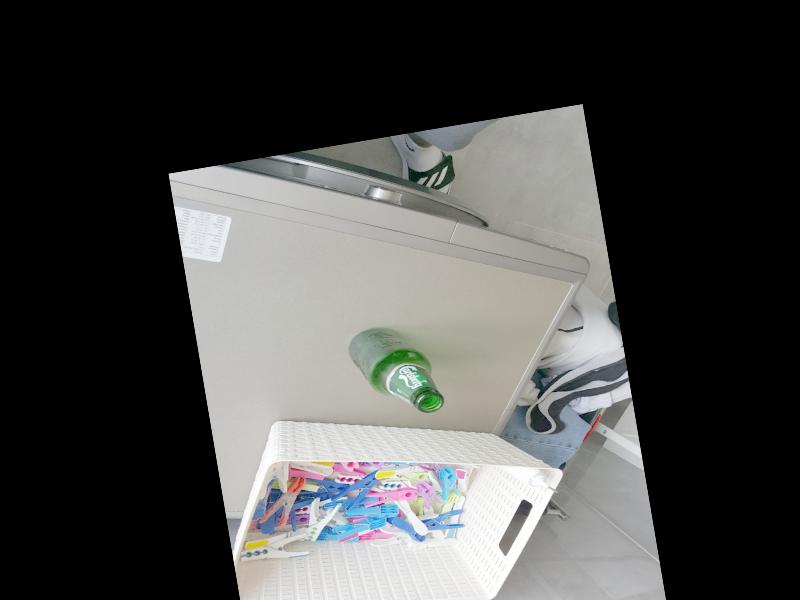Beer: (347, 317, 446, 421)
